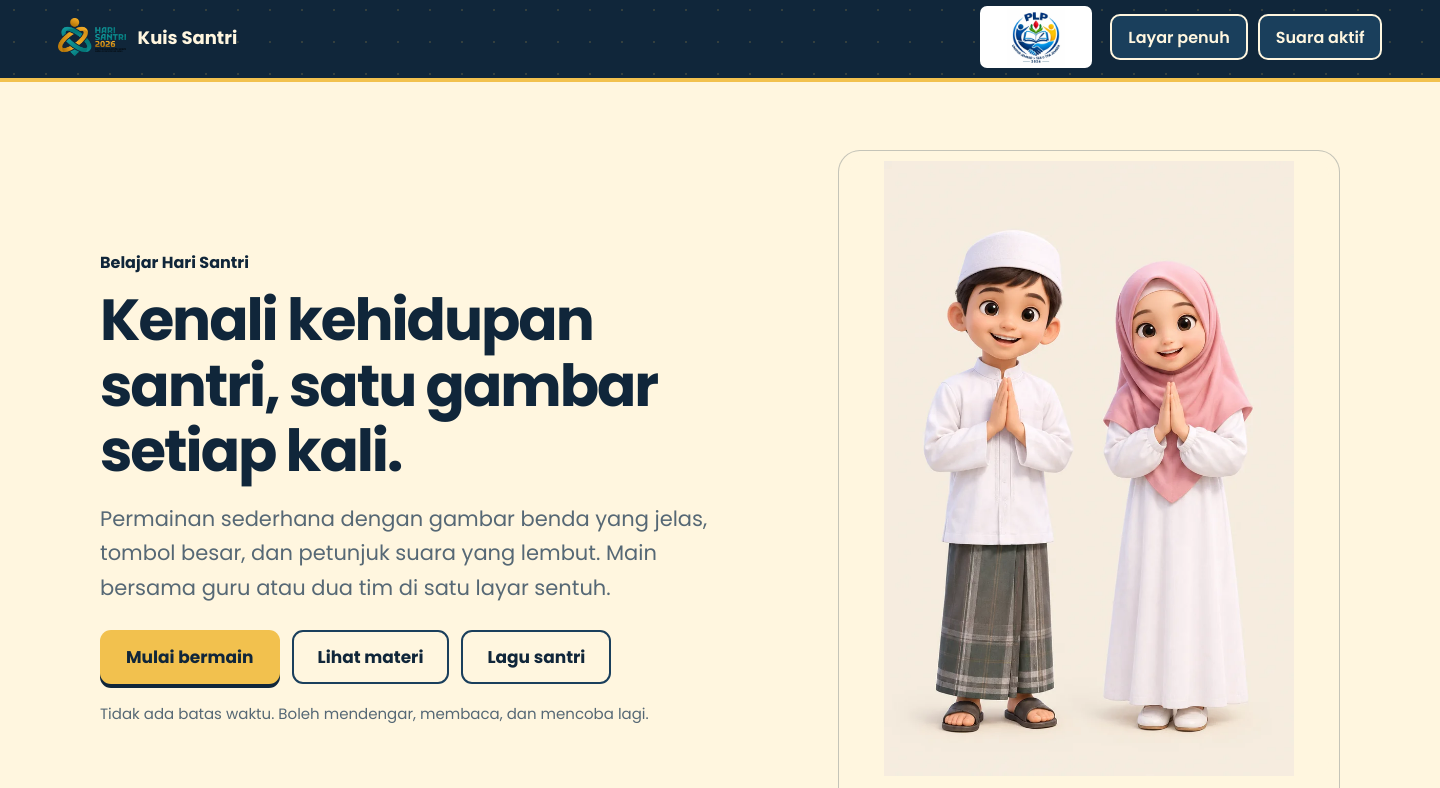
alur aplikasi santri › membatasi pilihan sampai 50 soal dan memakai pilihan nama, bukan ketikan
Click the button "Mulai bermain".
click(190, 657)  # box [100,630,280,684]
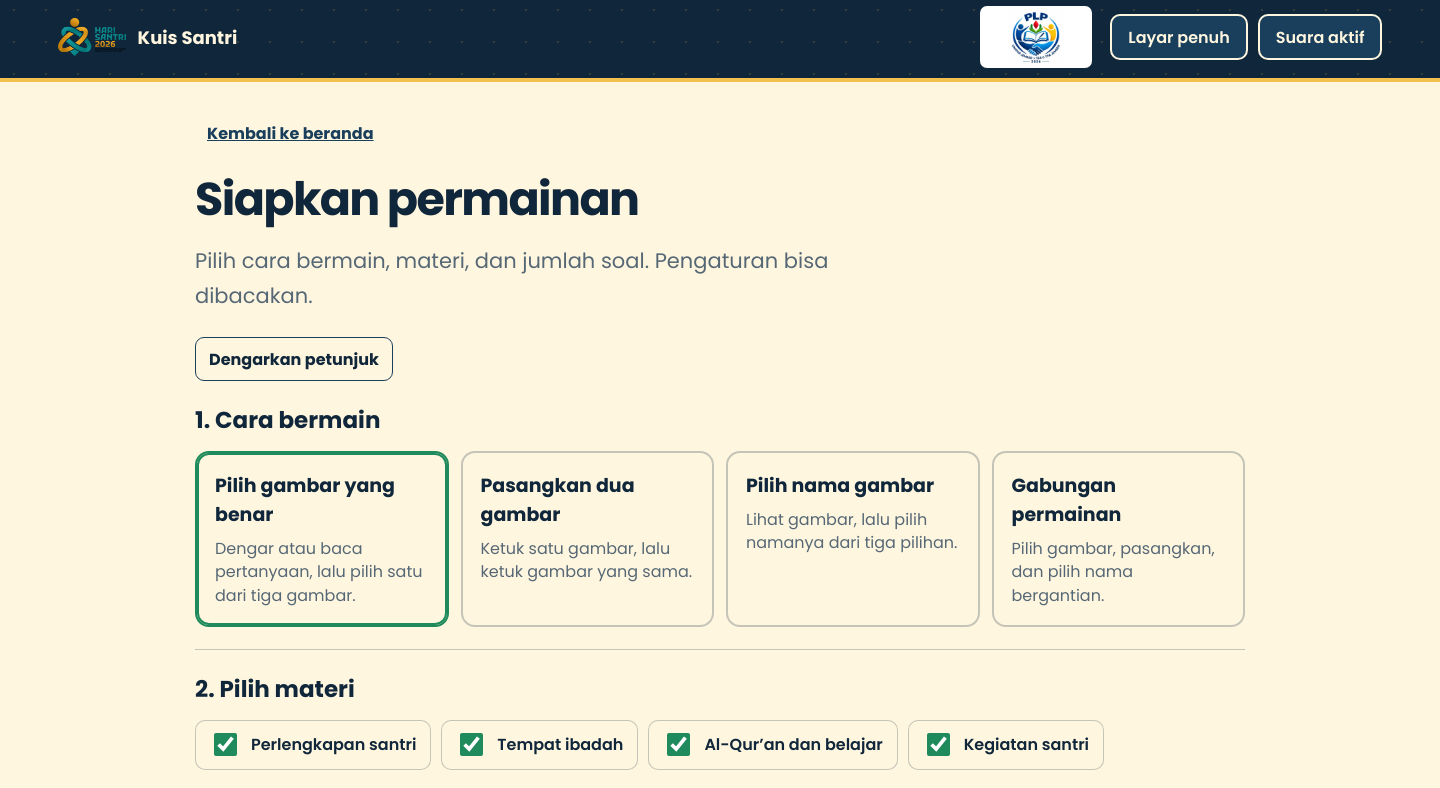
Click the button that starts with "Pilih nama gambar".
click(853, 539)  # box [726,451,980,627]
(page scrolled)
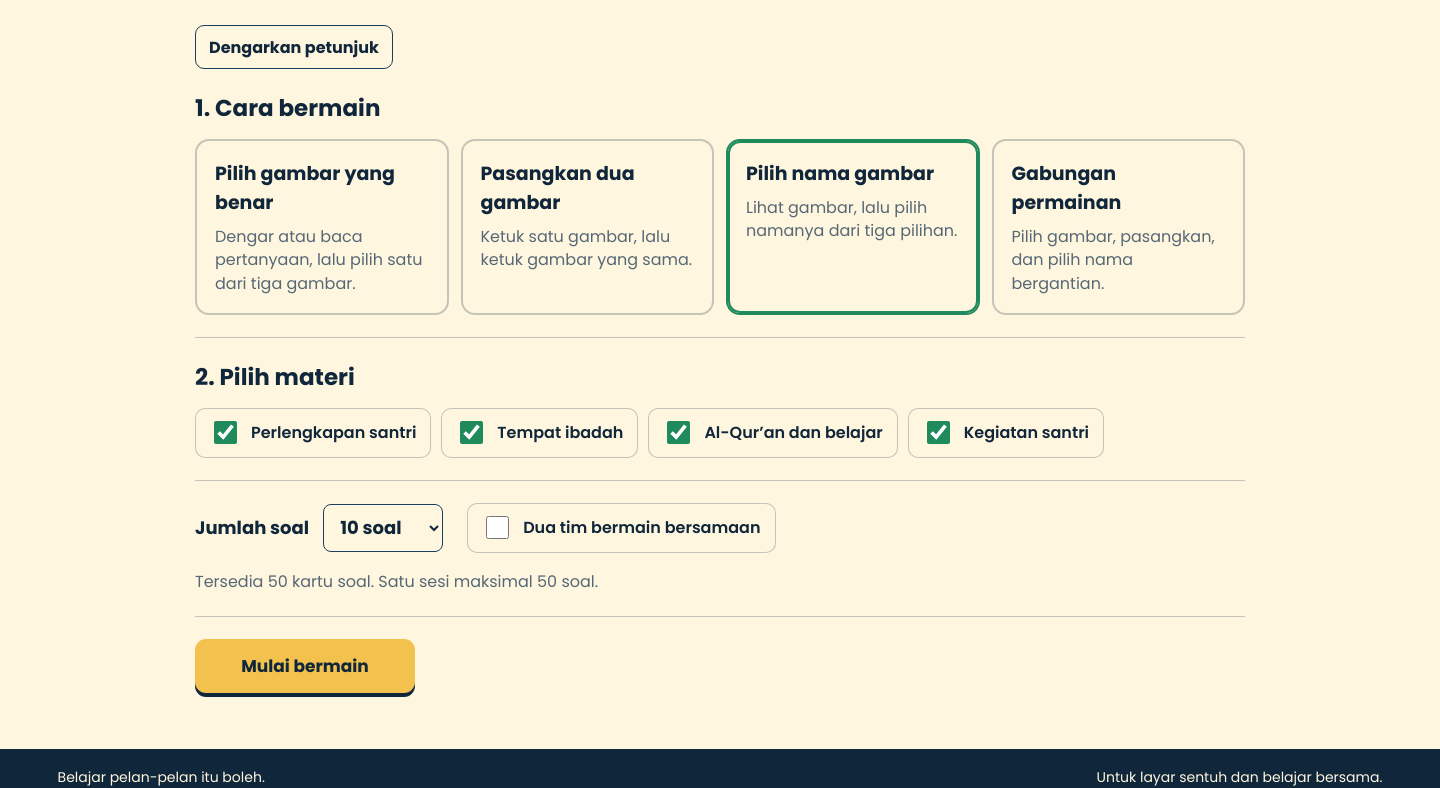
Select "1 soal" in the dropdown labelled "Jumlah soal" at [383, 528], box [323,504,443,552]
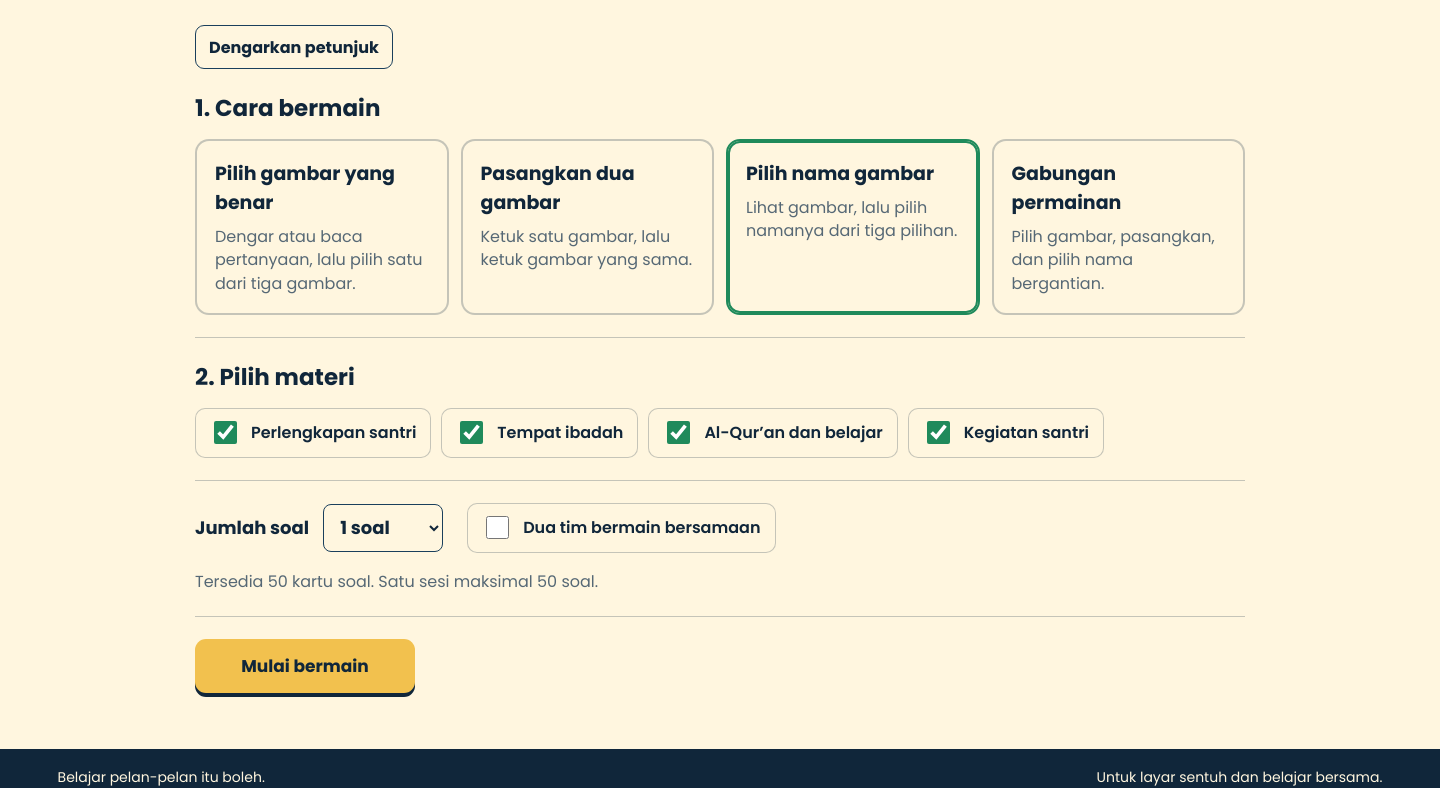
Click the button "Mulai bermain".
click(305, 666)  # box [195,639,415,693]
(page scrolled)
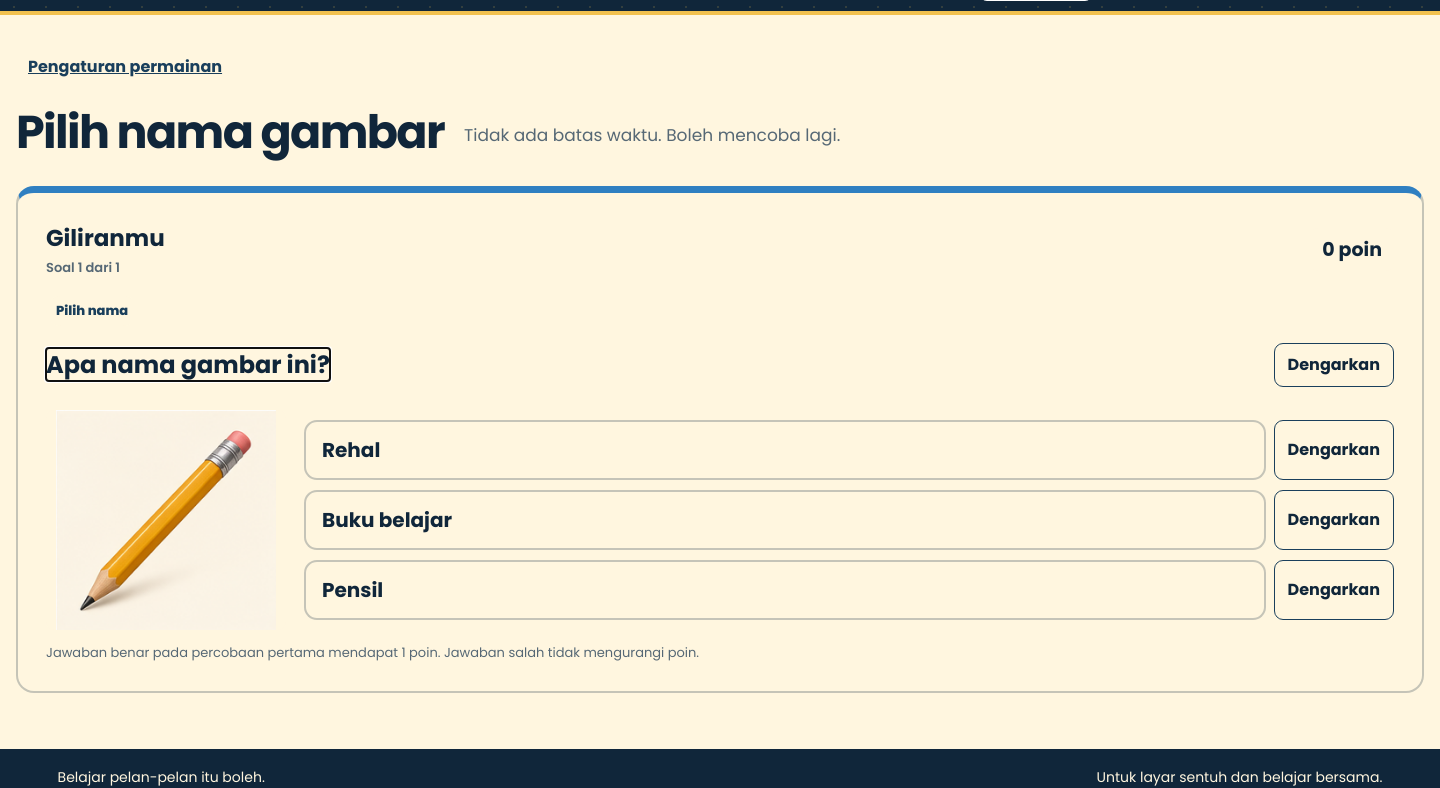
Now the checkbox is gone
Click the button with class "name-button" showing "Pensil".
click(353, 590)  # box [304,560,1266,620]
(page scrolled)
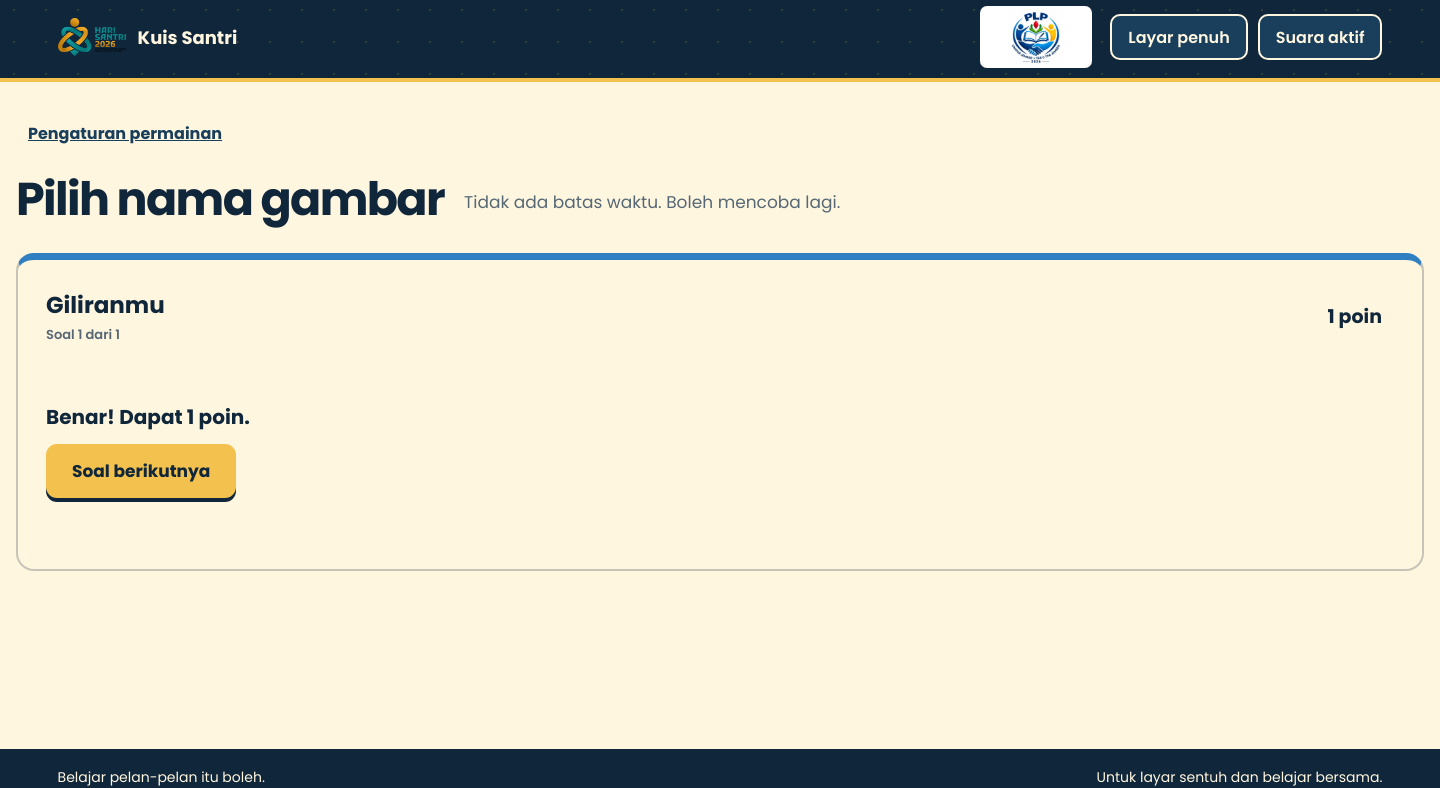
Now the text "Benar! Dapat 1 poin." is shown, box [46,404,250,432]
